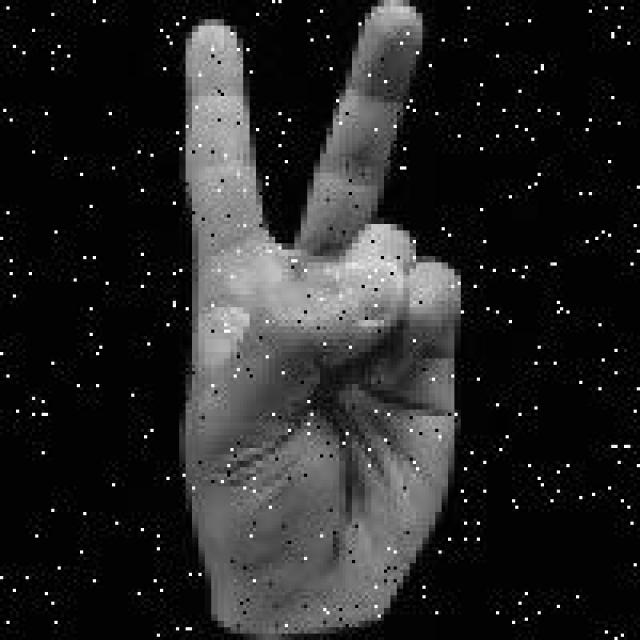V: (176, 0, 483, 640)
